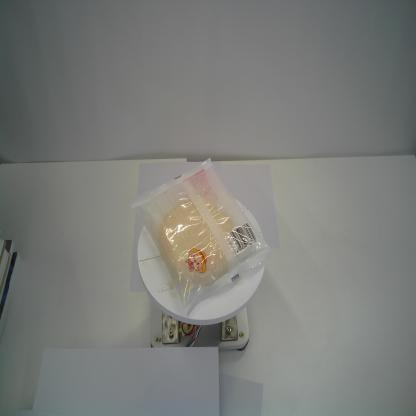Dessert: (129, 155, 271, 316)
